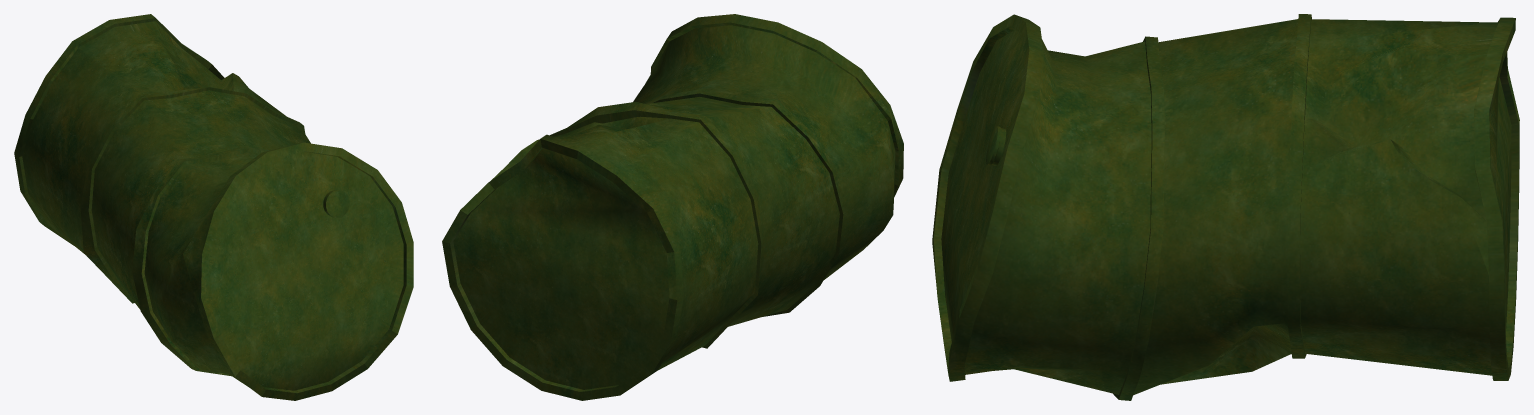
File: barrel03_DONE.fbx
3 views of the same model, side by side, from view 1: azimuth 30°, elevation 25°; view 2: azimuth 150°, elevation 25°; view 3: azimuth 270°, elevation 25° (orthographic). The views are drawn at different scales.
Parts seen in each view (by area): view 1: barrels_01:Barrel_003; view 2: barrels_01:Barrel_003; view 3: barrels_01:Barrel_003.
Boxes of the visible parts, x1,y1,x2,y2 form: barrels_01:Barrel_003: (14, 14, 413, 400); barrels_01:Barrel_003: (442, 14, 903, 400); barrels_01:Barrel_003: (932, 14, 1519, 400).
Size of the model in its own units: 75.11 by 73.32 by 109.
